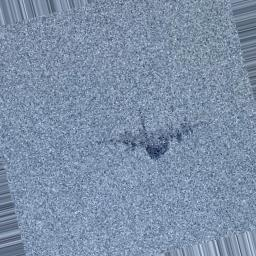Airplane: (97, 116, 203, 162)
